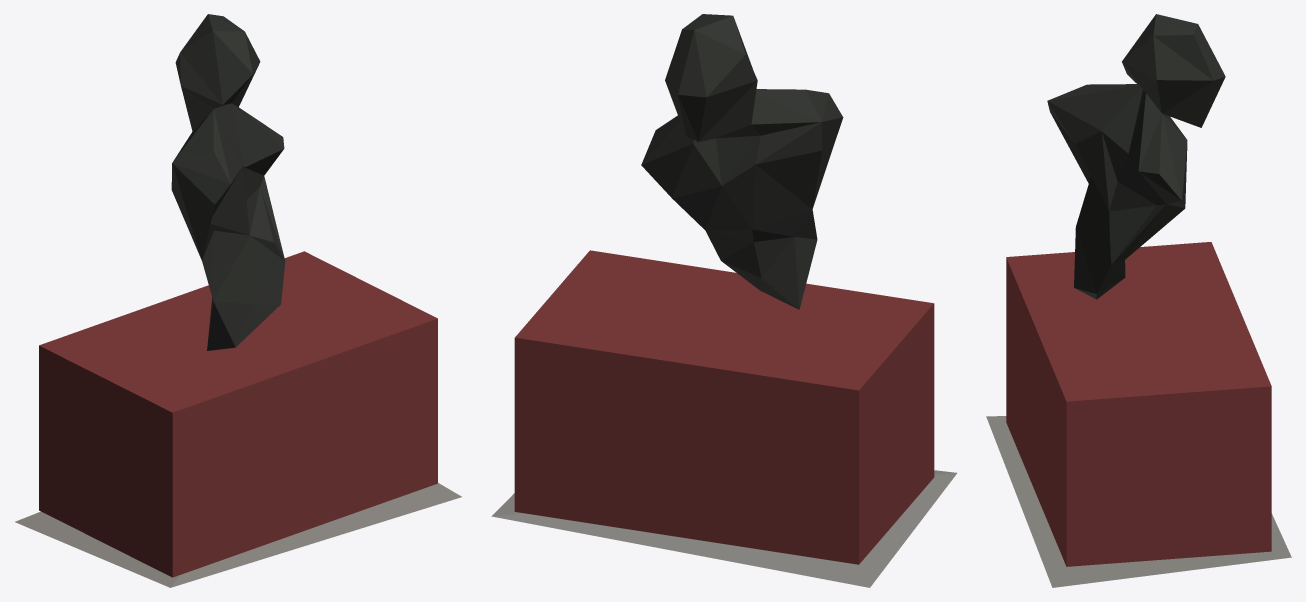
File: multatuli-standbeeld.lod2.glb
3 renders of one model, left to right at view 1: azimuth 30°, elevation 25°; view 2: azimuth 150°, elevation 25°; view 3: azimuth 270°, elevation 25°, orthographic. The views are drawn at different scales.
Visible parts, largest first — view 1: lod2; view 2: lod2; view 3: lod2.
Part boxes in pixels (x1=…): lod2: x1=15, y1=14, x2=461, y2=587; lod2: x1=491, y1=14, x2=957, y2=587; lod2: x1=986, y1=14, x2=1291, y2=587.
Size of the model in its own units: 2.41 by 3.03 by 1.76.
